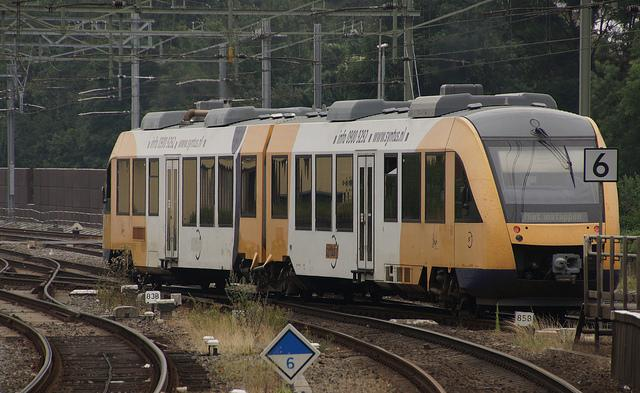Train: (99, 84, 622, 308)
